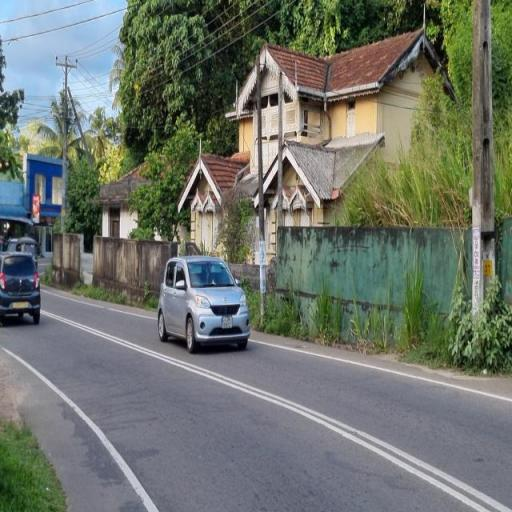double_white_line: (176, 333, 508, 512), (0, 348, 160, 511)
